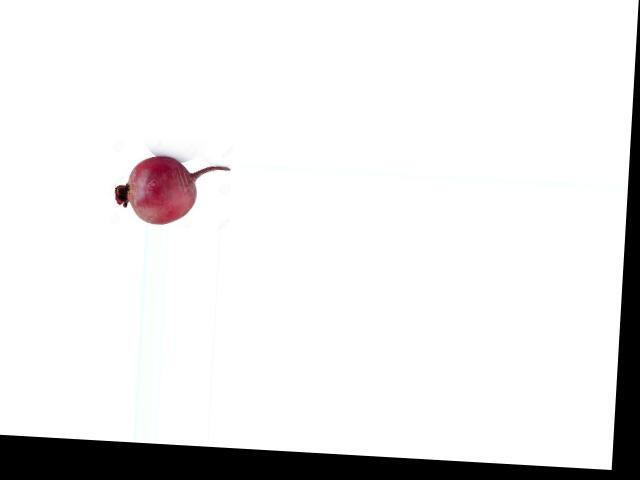beet: (113, 153, 230, 227)
